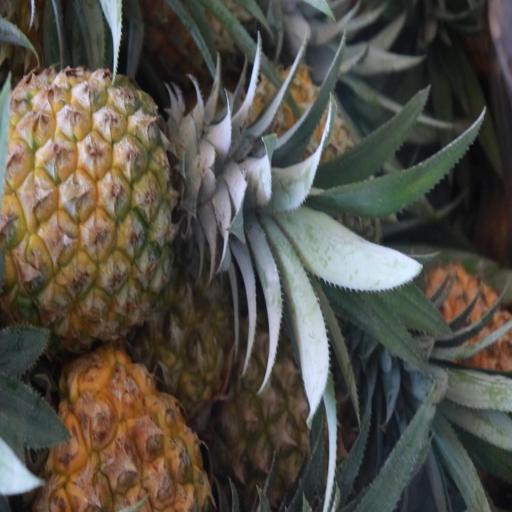Pineapple - v8 v1: (2, 64, 183, 325), (34, 339, 210, 512), (216, 319, 342, 512)
